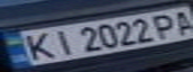0: (96, 20, 121, 51)
2: (75, 24, 103, 53), (130, 15, 157, 44), (115, 18, 139, 47)
A: (166, 7, 193, 35)
I: (45, 27, 78, 56)
K: (15, 29, 60, 62)
P: (148, 11, 184, 39)
